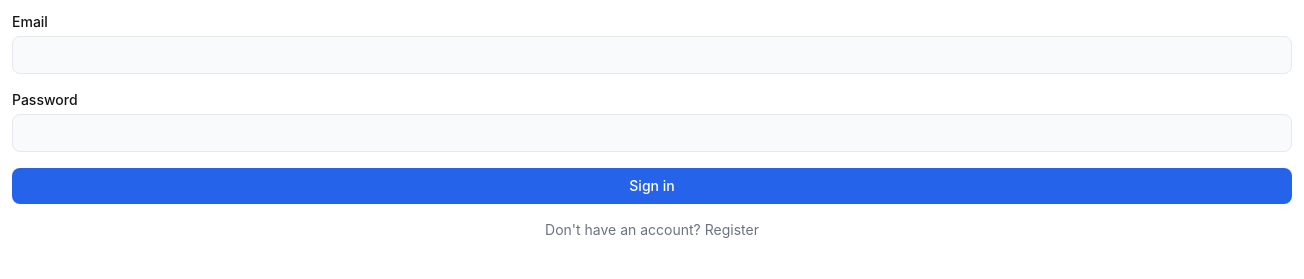
Test: LoginForm › shows validation error for invalid email format
This screenshot has width=1304, height=279.
Type "foo@bar" into the field labelled "Email" at [652, 55], box [12,36,1292,74]
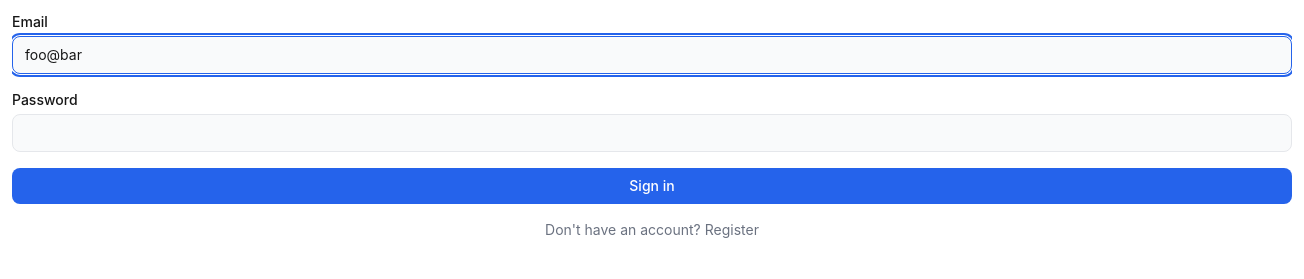
Type "validpassword123" into the password field labelled "Password" at [652, 133], box [12,114,1292,152]
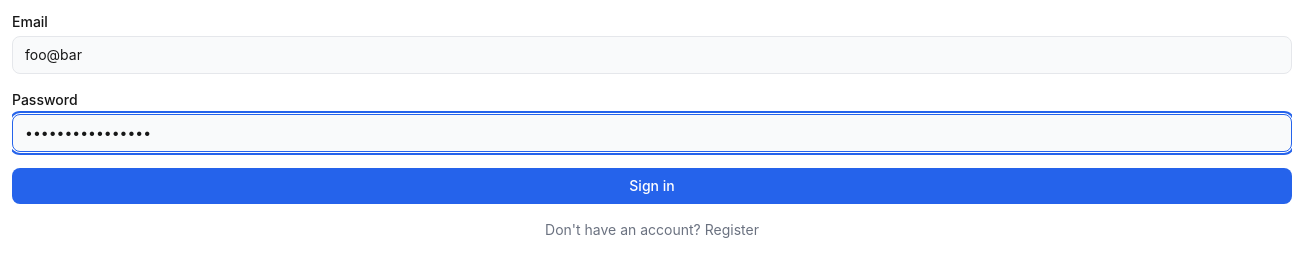
Click the button "Sign in" at [652, 186], box [12,168,1292,204]
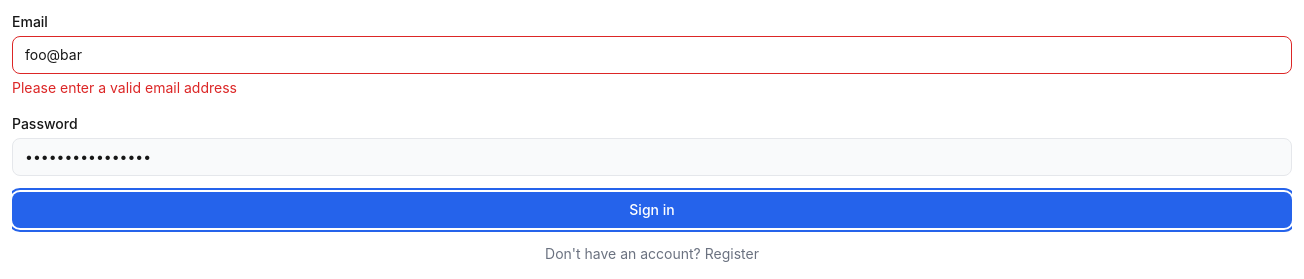
Result: the text "Please enter a valid email address" is shown at [12,79,237,96]
